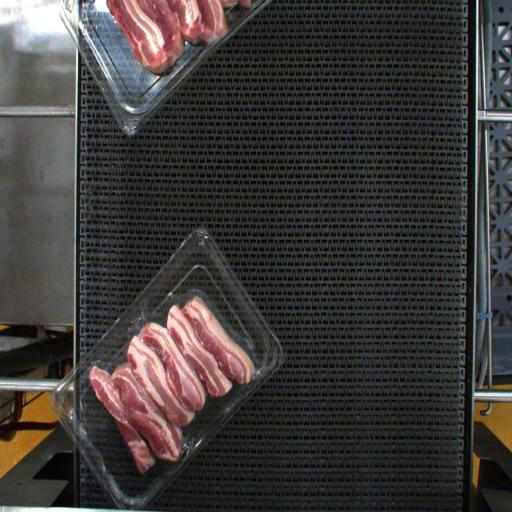twisted-meat: (90, 365, 154, 469)
unsealed: (113, 298, 259, 381)
